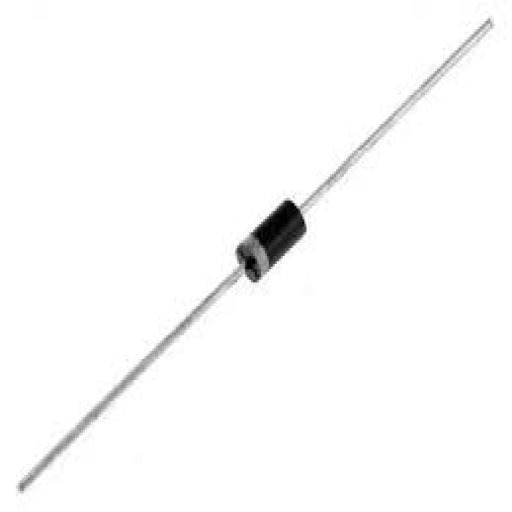DIODE: (14, 10, 496, 494)
